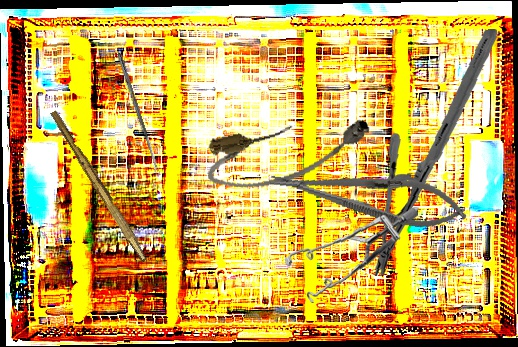Cannula: (201, 108, 378, 198)
Needle Holder: (356, 28, 514, 277), (266, 154, 471, 237)
Scalpel Handle: (46, 109, 153, 263)
Speculum: (282, 200, 419, 309)
Surgical Spoon: (116, 52, 161, 177)
